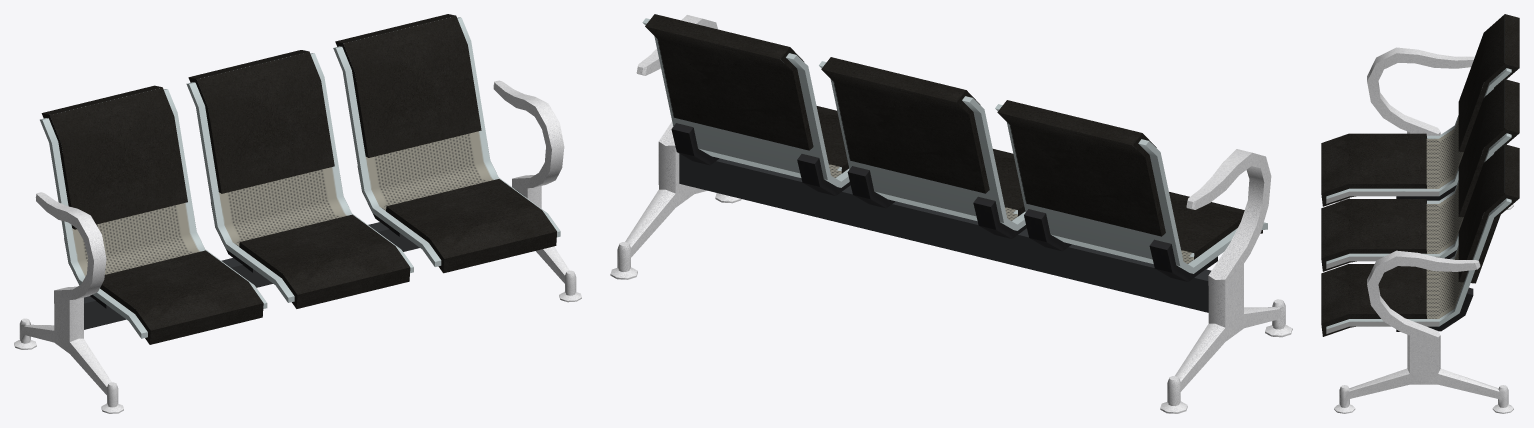
Rendered from waitingBench.glb.
The picture shows the model from 3 angles, left to right: view 1: azimuth 30°, elevation 25°; view 2: azimuth 150°, elevation 25°; view 3: azimuth 270°, elevation 25°; orthographic projection. The views are drawn at different scales.
Parts seen in each view (by area): view 1: waiting_bench_geo; view 2: waiting_bench_geo; view 3: waiting_bench_geo.
Part boxes in pixels (x1,y1,x2,y2): waiting_bench_geo: (14, 14, 581, 413); waiting_bench_geo: (610, 14, 1292, 413); waiting_bench_geo: (1321, 14, 1519, 413).
Size of the model in its own units: 1.9 by 0.8494 by 0.751.
1 material, 1 textured.
